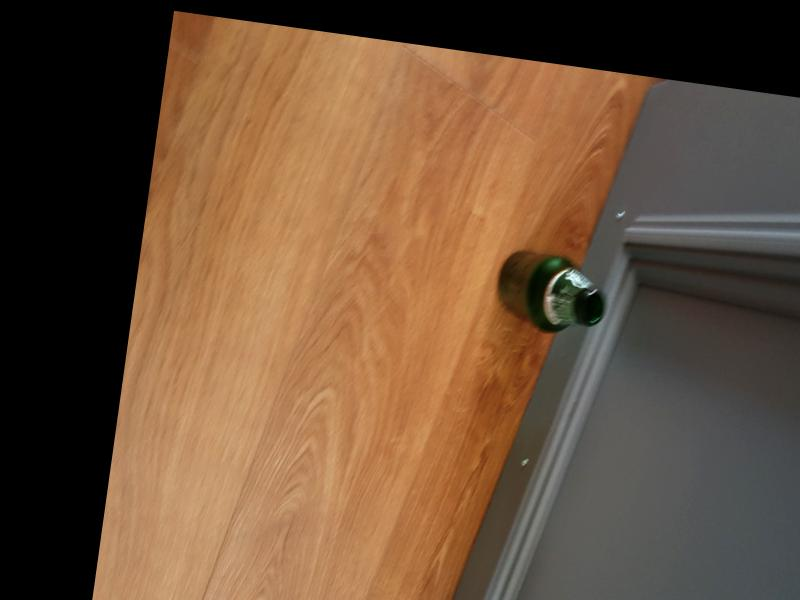Beer: (493, 249, 609, 338)
